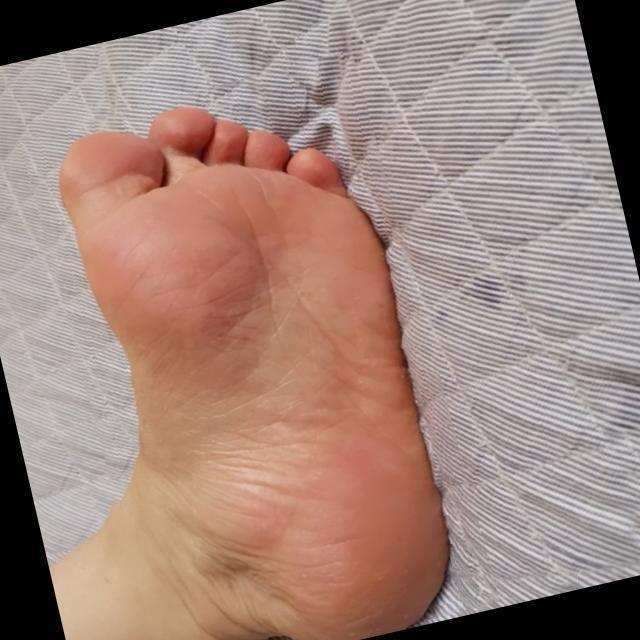No_Shoes: (39, 129, 478, 629)
